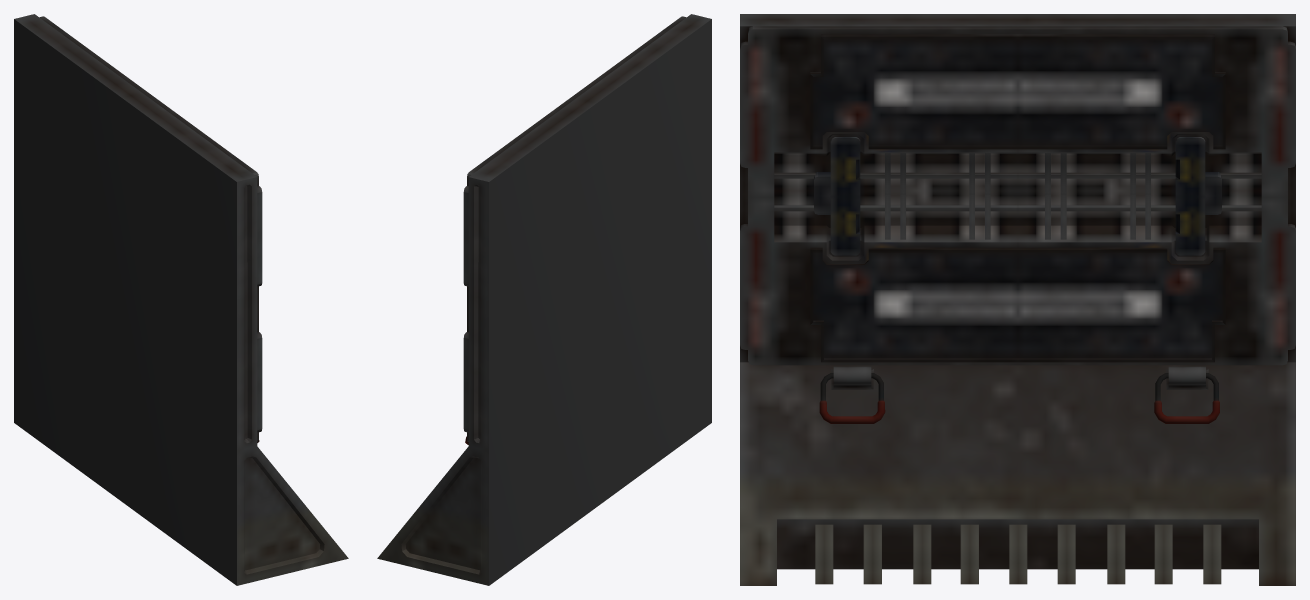
Rendered from Wall_09.FBX.
The picture shows the model from 3 angles, left to right: view 1: azimuth 30°, elevation 25°; view 2: azimuth 150°, elevation 25°; view 3: azimuth 270°, elevation 25°; orthographic projection. The views are drawn at different scales.
Visible parts, largest first — view 1: Wall_09; view 2: Wall_09; view 3: Wall_09.
Boxes of the visible parts, x1=… form: Wall_09: x1=14, y1=14, x2=348, y2=585; Wall_09: x1=377, y1=14, x2=711, y2=585; Wall_09: x1=740, y1=14, x2=1295, y2=585.
Size of the model in its own units: 87.08 by 300 by 300.
